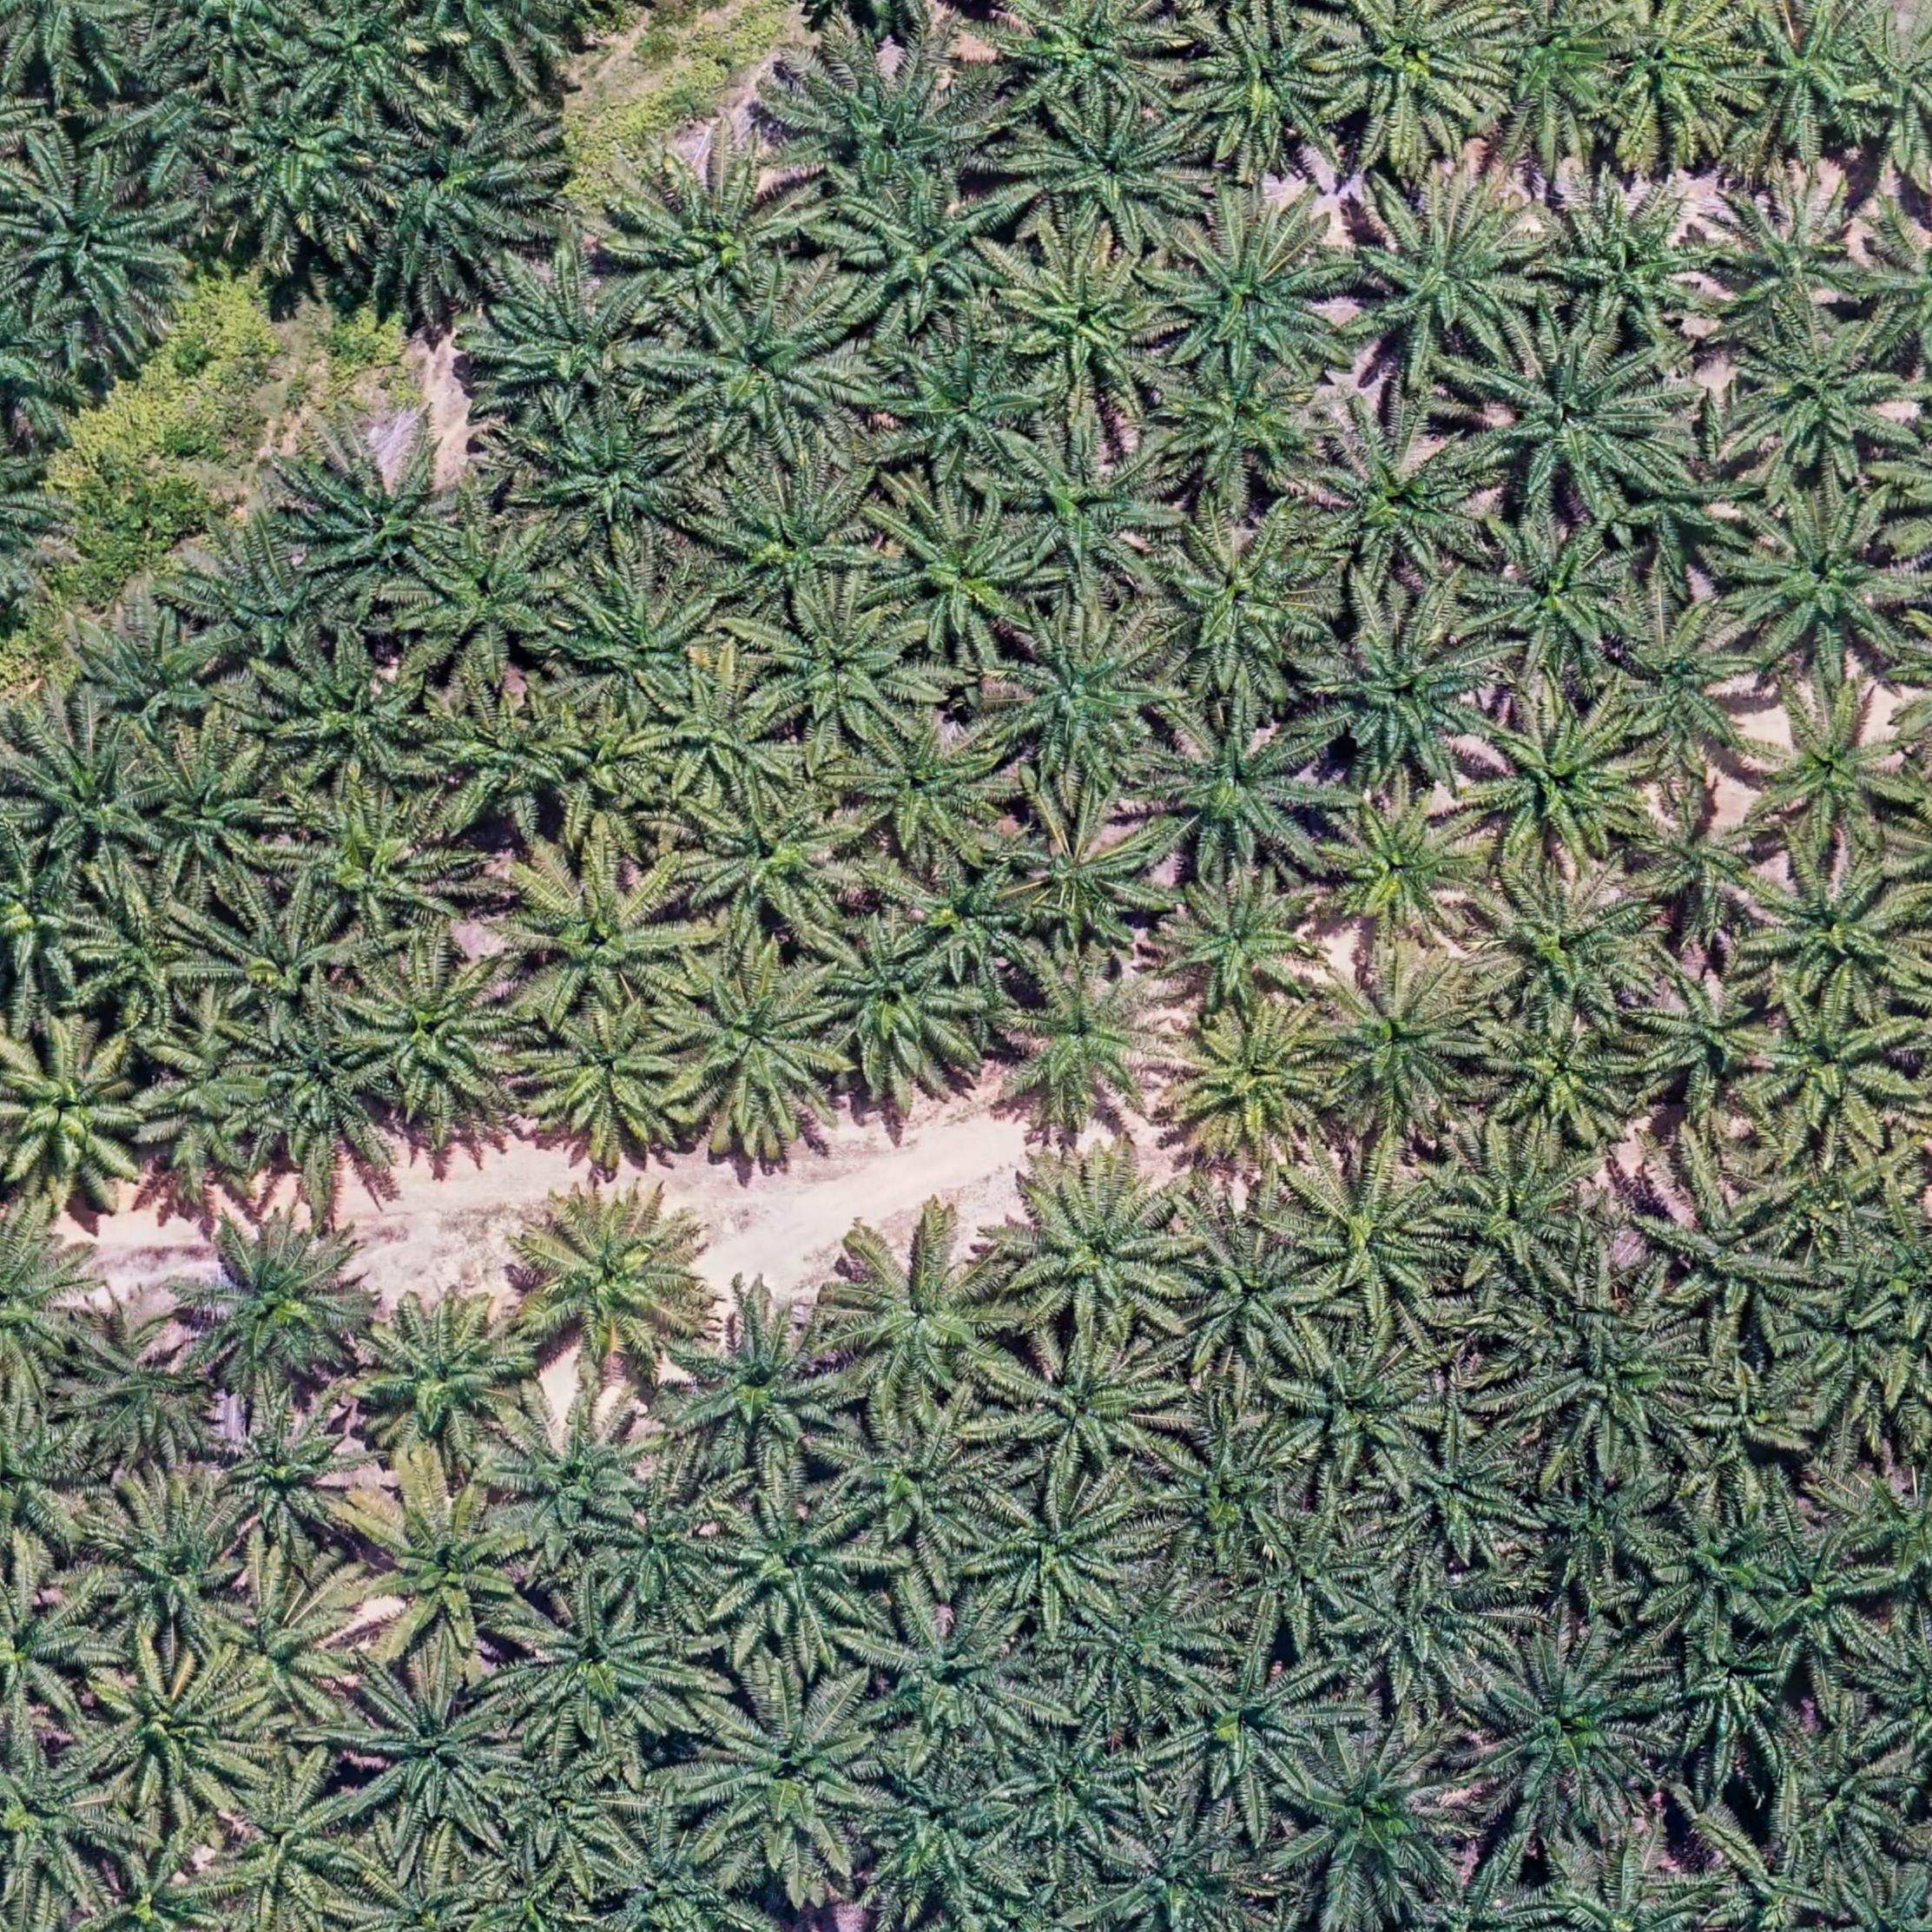palmtree: (1343, 180, 1560, 384), (172, 1201, 384, 1399), (511, 1175, 715, 1378), (1476, 326, 1684, 520), (697, 1679, 897, 1879), (1470, 1631, 1668, 1828), (1155, 205, 1355, 395), (1727, 487, 1921, 678), (780, 42, 1000, 211), (832, 1221, 1028, 1408), (662, 957, 853, 1148), (663, 283, 870, 458), (1001, 1159, 1196, 1345), (1530, 177, 1729, 357), (347, 1484, 538, 1670), (1304, 412, 1499, 594), (993, 959, 1189, 1139), (506, 851, 704, 1028), (621, 150, 823, 324), (1279, 1730, 1470, 1911), (1309, 610, 1500, 789), (345, 954, 536, 1132), (1309, 957, 1495, 1136), (1472, 692, 1658, 870), (665, 1307, 853, 1484), (998, 426, 1182, 605), (1150, 701, 1338, 876), (87, 1647, 271, 1824), (1154, 527, 1341, 701), (1472, 862, 1663, 1031), (274, 784, 471, 948), (352, 1293, 538, 1467), (502, 1587, 694, 1755), (1730, 317, 1913, 490), (1313, 786, 1499, 955), (366, 111, 545, 287), (1706, 180, 1882, 356), (87, 1483, 264, 1658), (1164, 1001, 1346, 1171), (998, 610, 1178, 780), (1316, 0, 1514, 154), (678, 786, 869, 945), (1746, 683, 1921, 856), (1290, 1157, 1465, 1330), (260, 640, 446, 803), (11, 154, 186, 326), (708, 1488, 885, 1658), (839, 173, 1023, 336), (234, 1007, 405, 1178), (350, 1665, 524, 1835), (807, 916, 982, 1085), (1608, 596, 1773, 775), (1016, 101, 1203, 257), (524, 1001, 702, 1164), (1744, 985, 1920, 1150), (1472, 515, 1649, 678), (1178, 12, 1355, 175), (0, 1007, 147, 1201), (211, 1392, 379, 1562), (1000, 1325, 1180, 1483), (1642, 1175, 1810, 1343), (1001, 244, 1175, 407), (870, 1594, 1046, 1755), (407, 518, 582, 679), (1431, 1131, 1601, 1295), (211, 83, 387, 241), (481, 264, 660, 419), (761, 589, 932, 750), (487, 1398, 658, 1559), (1748, 853, 1921, 1012), (1157, 357, 1336, 511), (1539, 1309, 1706, 1474), (214, 1564, 377, 1730), (1169, 1649, 1339, 1808), (1159, 870, 1336, 1023), (214, 1760, 377, 1925), (846, 709, 1021, 862), (1332, 1562, 1513, 1709), (1171, 1226, 1339, 1384), (14, 724, 175, 886), (883, 497, 1049, 655), (1148, 1414, 1316, 1569), (840, 1408, 1014, 1559), (715, 469, 890, 617), (1622, 782, 1785, 941), (1005, 800, 1169, 957), (304, 446, 469, 602), (1279, 1329, 1447, 1481), (536, 405, 706, 556), (134, 741, 295, 899), (1483, 5, 1638, 168), (1596, 0, 1762, 150), (556, 571, 725, 718), (71, 609, 244, 752), (1628, 957, 1785, 1115), (863, 1757, 1024, 1911), (1640, 1626, 1805, 1776), (143, 1019, 287, 1191), (71, 874, 226, 1031), (993, 0, 1187, 126), (1479, 1007, 1649, 1150), (1729, 5, 1886, 159), (428, 686, 593, 832), (978, 1483, 1145, 1624), (205, 893, 372, 1035), (65, 1318, 219, 1467), (883, 340, 1044, 479), (191, 547, 363, 676), (0, 1727, 127, 1898), (1076, 1571, 1230, 1713), (1647, 1504, 1798, 1647), (1394, 1426, 1545, 1566), (1626, 433, 1769, 579), (1527, 1465, 1683, 1596), (0, 1205, 106, 1396), (1005, 1725, 1150, 1865), (1757, 1530, 1895, 1675), (1231, 1513, 1382, 1645), (649, 667, 801, 796), (0, 1560, 110, 1739), (0, 830, 108, 1008), (897, 860, 1044, 991), (1100, 1810, 1258, 1932), (1679, 1353, 1821, 1486), (1796, 1716, 1914, 1874), (285, 0, 437, 122), (0, 1403, 106, 1576), (495, 1748, 635, 1879), (587, 1495, 732, 1619), (602, 1822, 757, 1932), (1785, 1286, 1911, 1419), (1523, 1849, 1723, 1930), (0, 0, 145, 106), (338, 1852, 515, 1932), (85, 1842, 234, 1932), (1831, 1461, 1932, 1589), (1709, 1828, 1829, 1932), (548, 704, 674, 800), (127, 83, 230, 182)
